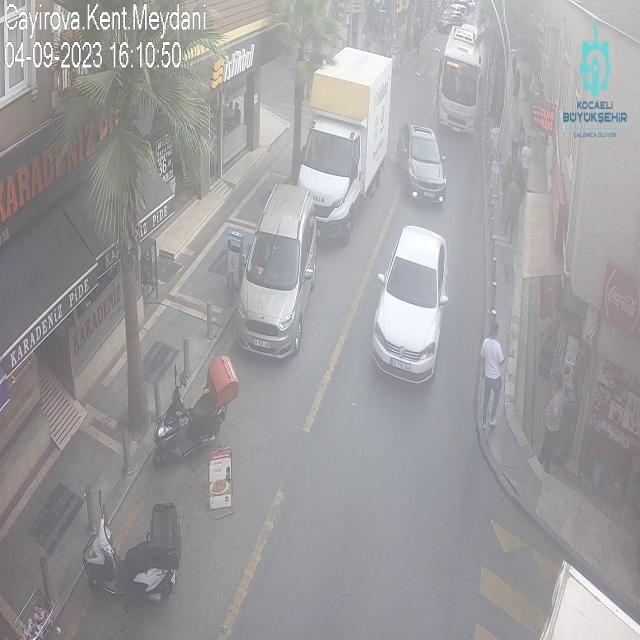Bus: (434, 26, 482, 133)
Car: (369, 226, 449, 386), (399, 122, 450, 206)
Cycle: (84, 495, 182, 606), (153, 352, 238, 464)
Truck: (294, 48, 396, 242)
Van: (235, 183, 319, 359)
